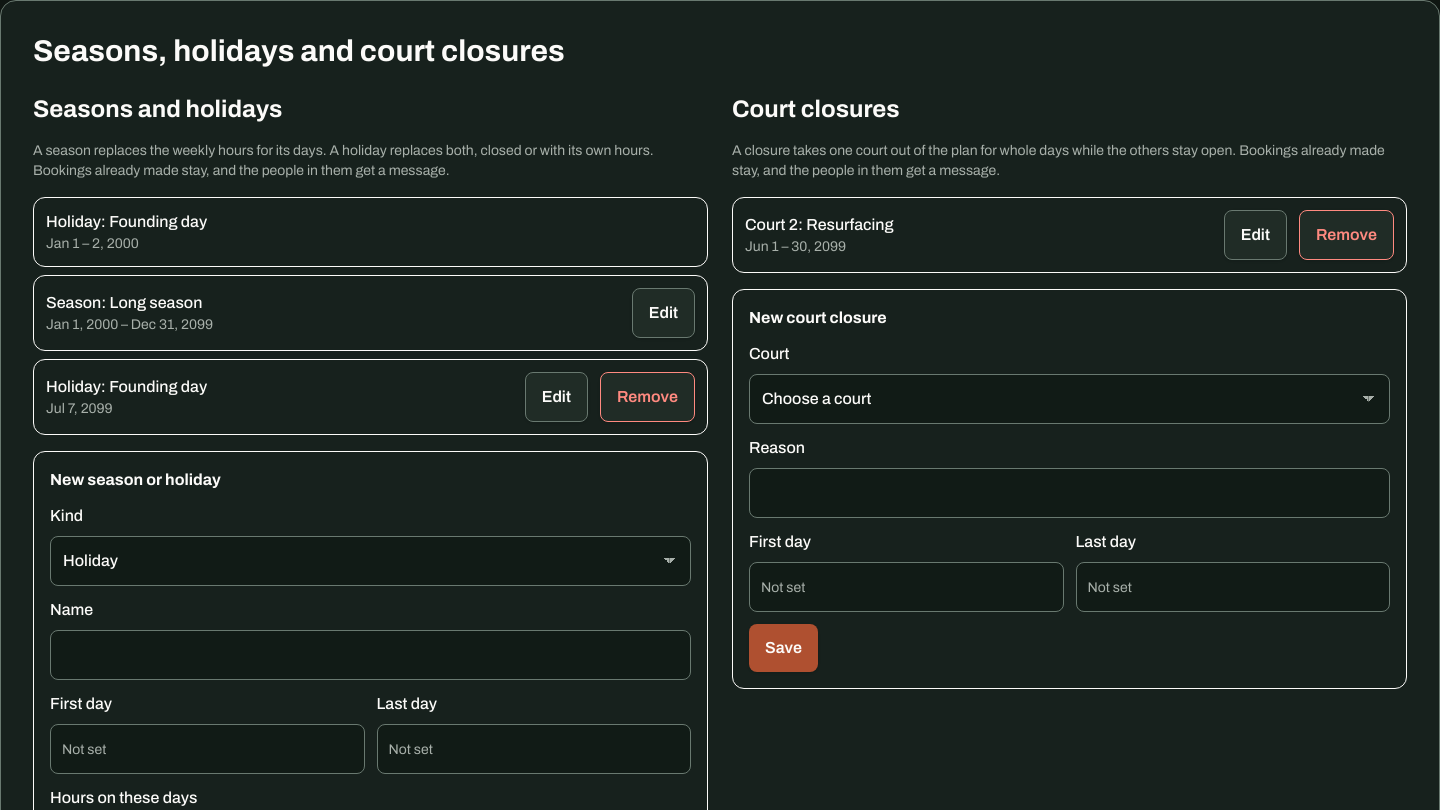
Test: AdminAvailabilityView › given a new holiday on a day the regular week keeps closed, when its first day is entered, then the form starts closed
Type "2026-05-17" into the field with test id "opening-period-starts-on". click: (207, 749)
box: [50,724,364,774]
(page scrolled)
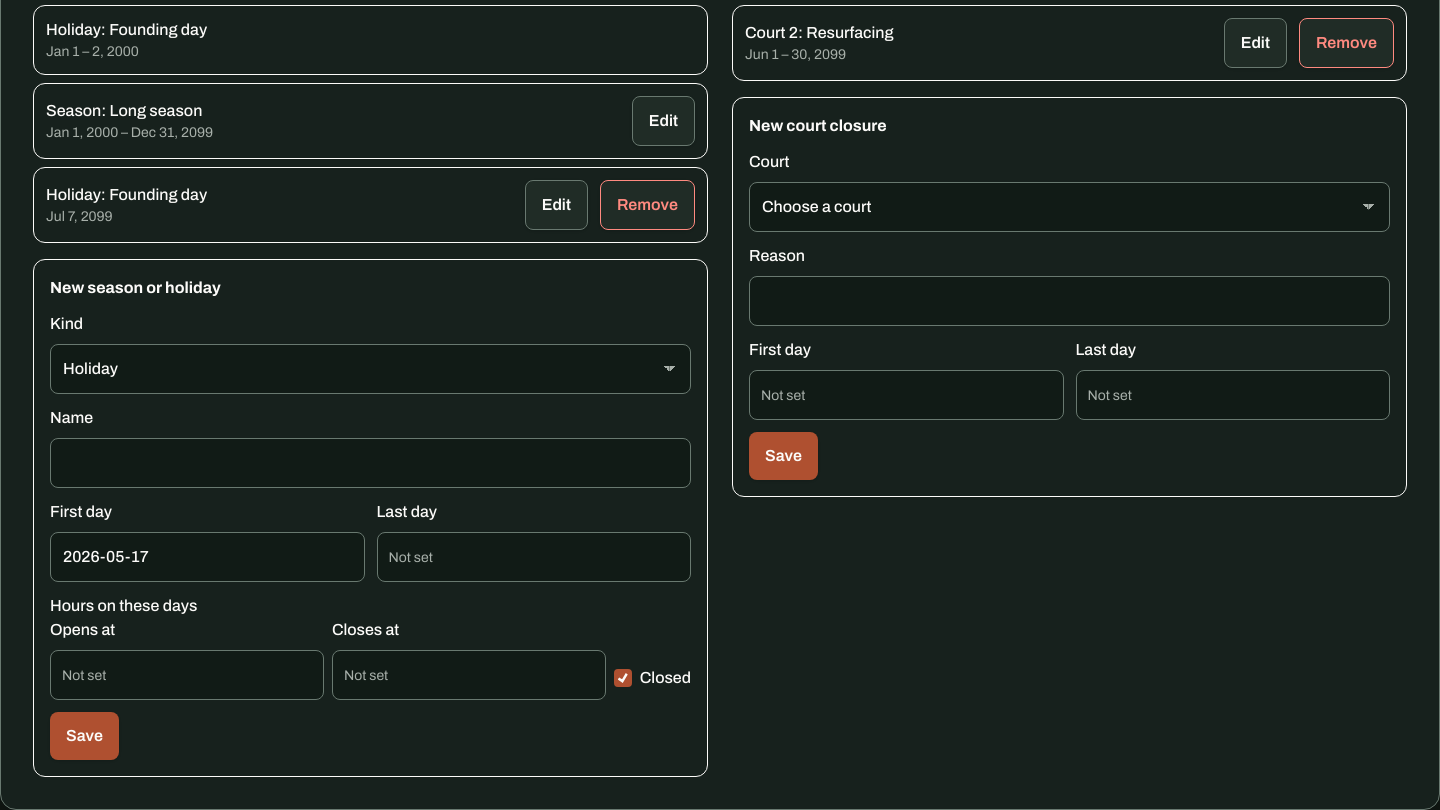
Expected: the checkbox with test id "opening-period-closed-MONDAY" is checked, [614,669,632,687]
